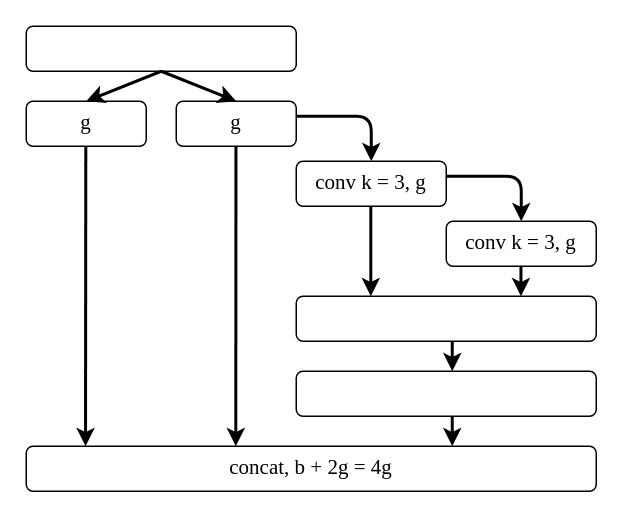
This 623x518 diagram has some shape labels left out. The shapes that lost their labels are listed below. From the top down, each one's centre as x and y in pixels, then its label:
At (x=160, y=48): "conv k = 3, b = 2g".
At (x=445, y=318): "concat, 2g".
At (x=445, y=393): "conv k = 1, 2g".
